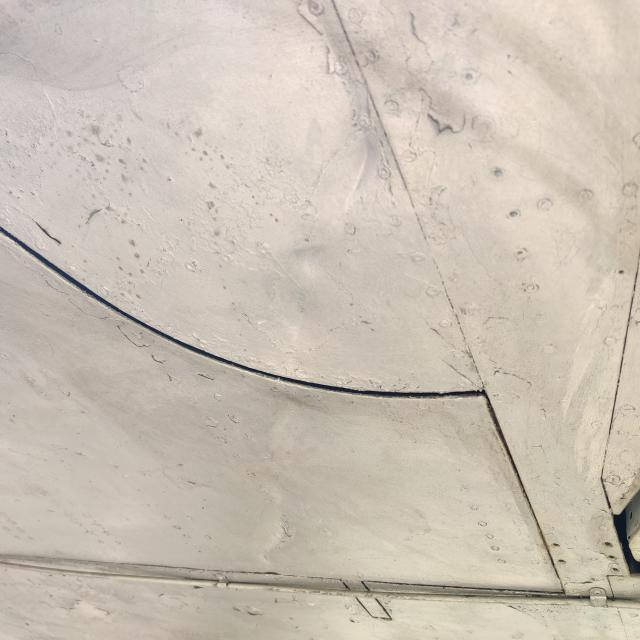dent: (237, 472, 322, 570)
